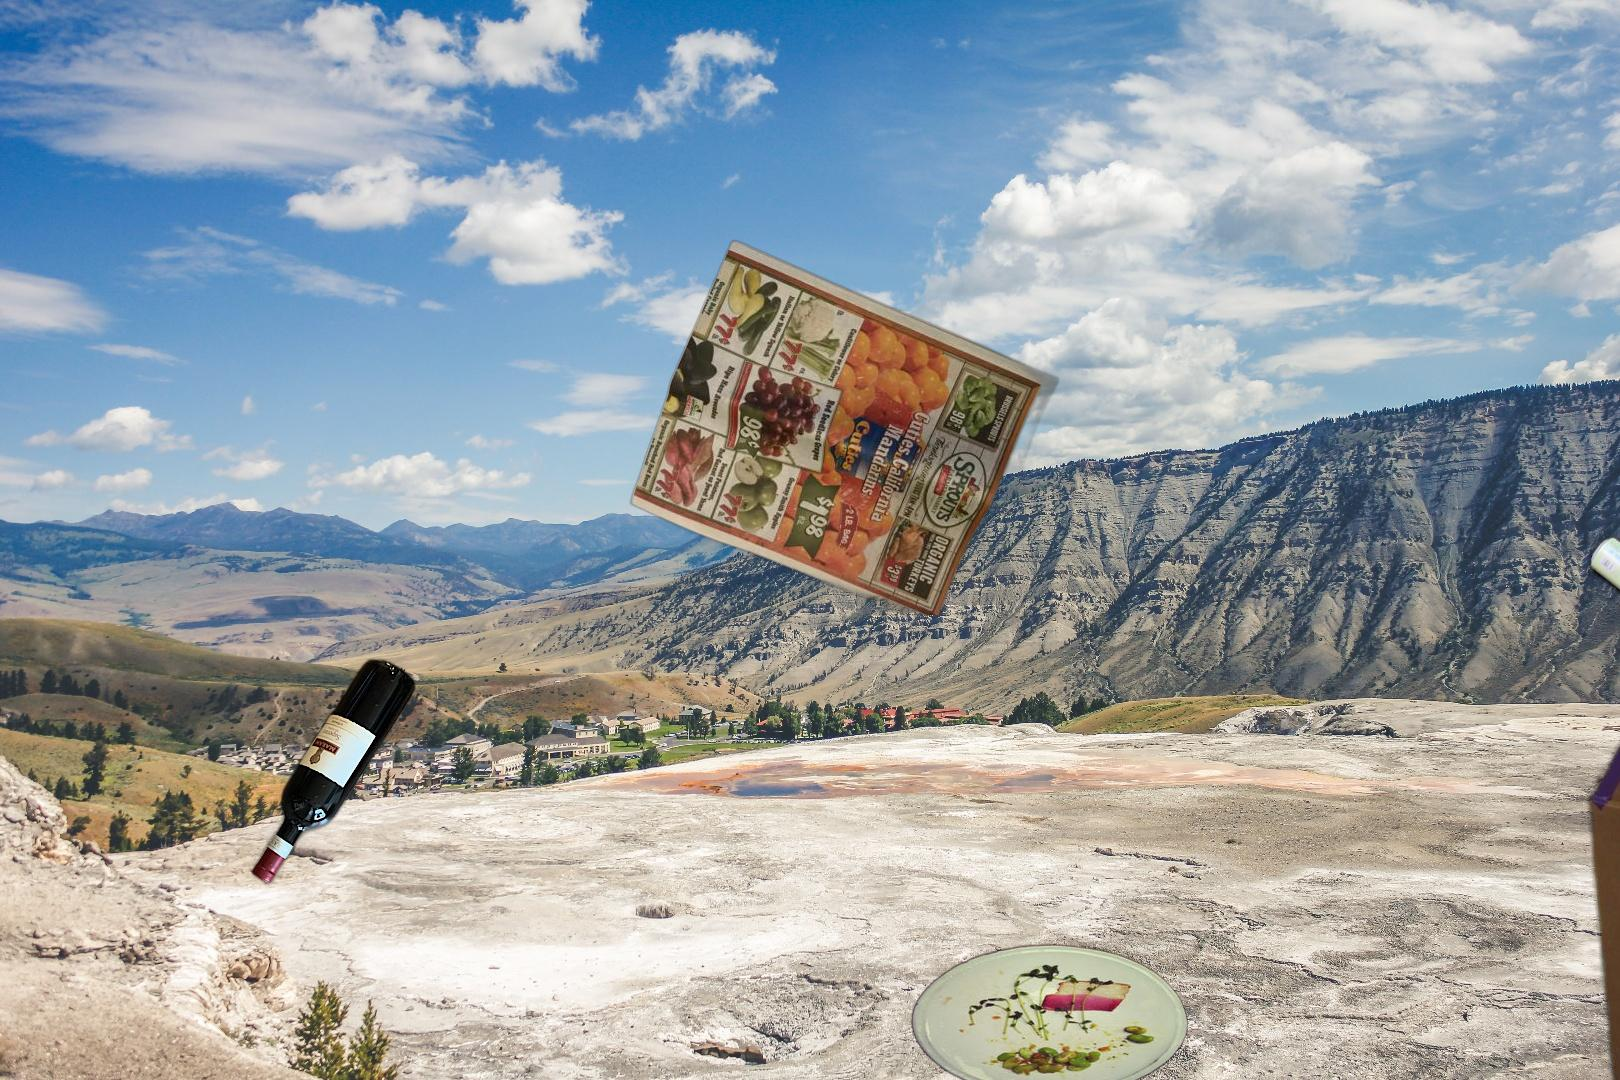biological: (904, 939, 1195, 1080)
glass: (248, 653, 419, 890)
metal-cans: (1585, 532, 1620, 1006)
paper: (627, 237, 1062, 615)
trashbox-cardboard: (1577, 372, 1620, 1080)
